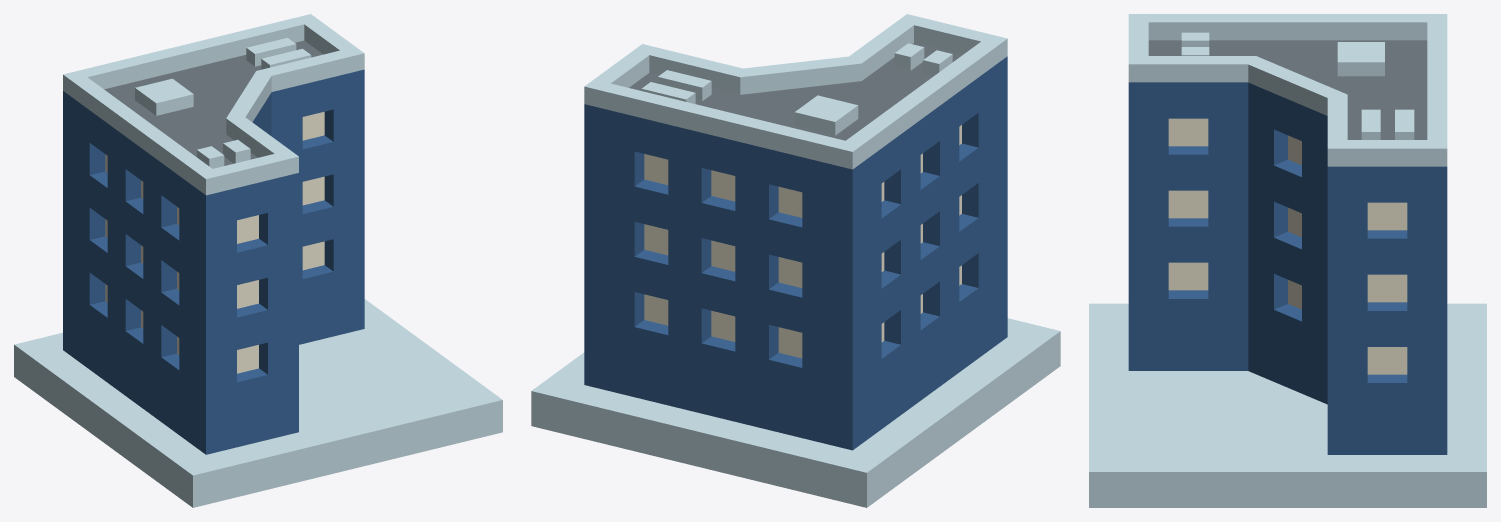
File: Building_8_Base_Extra (Blue).obj
3 renders of one model, left to right at view 1: azimuth 30°, elevation 25°; view 2: azimuth 150°, elevation 25°; view 3: azimuth 270°, elevation 25°, orthographic. The views are drawn at different scales.
Visible parts, largest first — view 1: Building_8_Base_Extra_(Blue); view 2: Building_8_Base_Extra_(Blue); view 3: Building_8_Base_Extra_(Blue).
Boxes of the visible parts, x1=… form: Building_8_Base_Extra_(Blue): x1=14, y1=14, x2=502, y2=507; Building_8_Base_Extra_(Blue): x1=531, y1=14, x2=1060, y2=507; Building_8_Base_Extra_(Blue): x1=1089, y1=14, x2=1486, y2=507.
Size of the model in its own units: 2 by 1.9 by 2.
